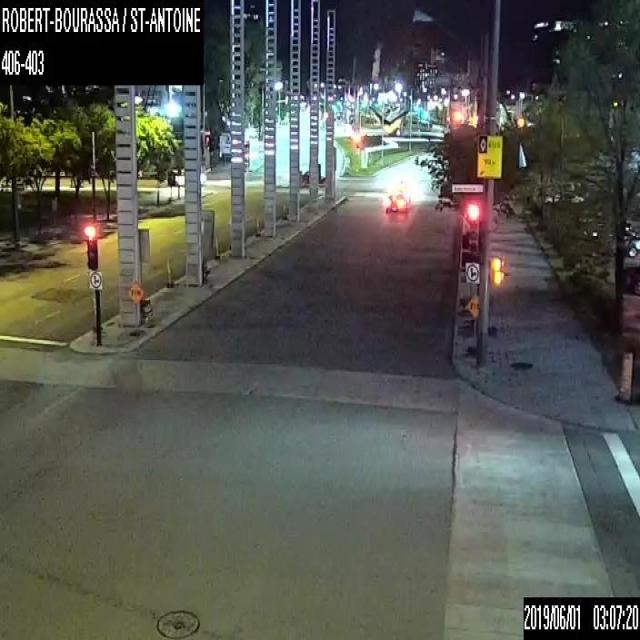construction: (136, 227, 152, 323), (200, 208, 213, 282), (126, 280, 143, 336), (465, 294, 479, 354)
vehicle: (608, 226, 639, 257), (384, 187, 408, 212), (170, 168, 205, 185), (300, 162, 324, 186), (544, 189, 585, 203)
